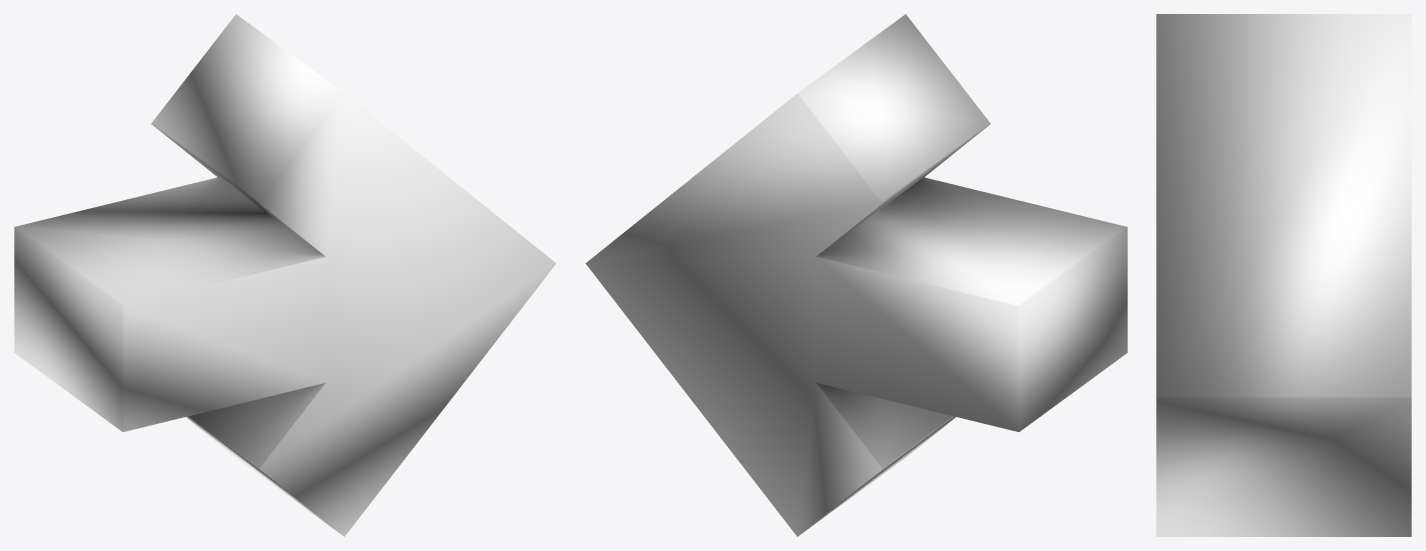
Rendered from Arrow04.fbx.
The picture shows the model from 3 angles, left to right: view 1: azimuth 30°, elevation 25°; view 2: azimuth 150°, elevation 25°; view 3: azimuth 270°, elevation 25°; orthographic projection. The views are drawn at different scales.
Visible parts, largest first — view 1: Arrow04; view 2: Arrow04; view 3: Arrow04.
Part boxes in pixels (x1,y1,x2,y2): Arrow04: [14, 14, 556, 536]; Arrow04: [585, 14, 1127, 536]; Arrow04: [1156, 14, 1411, 536].
Bounding box in the file's own units: 5.12 × 5 × 2.21.
